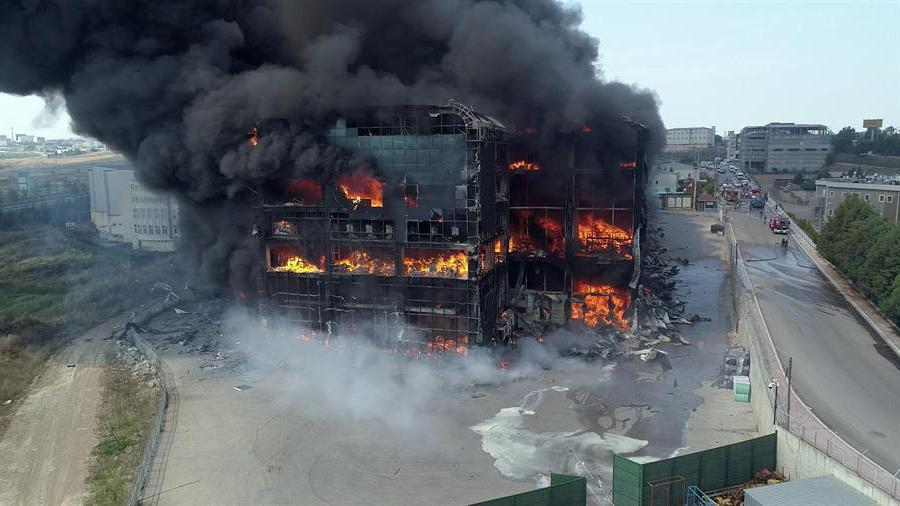fire: (565, 206, 643, 263), (563, 275, 635, 325), (328, 160, 392, 216), (336, 246, 399, 283), (407, 244, 473, 279), (262, 241, 324, 277)
